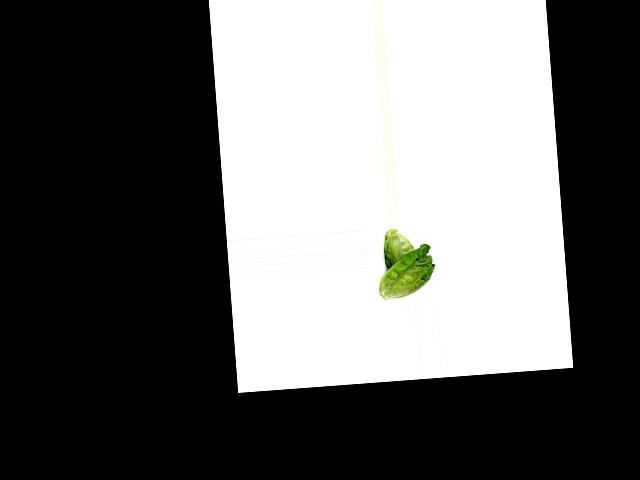lettuce: (379, 226, 417, 269)
